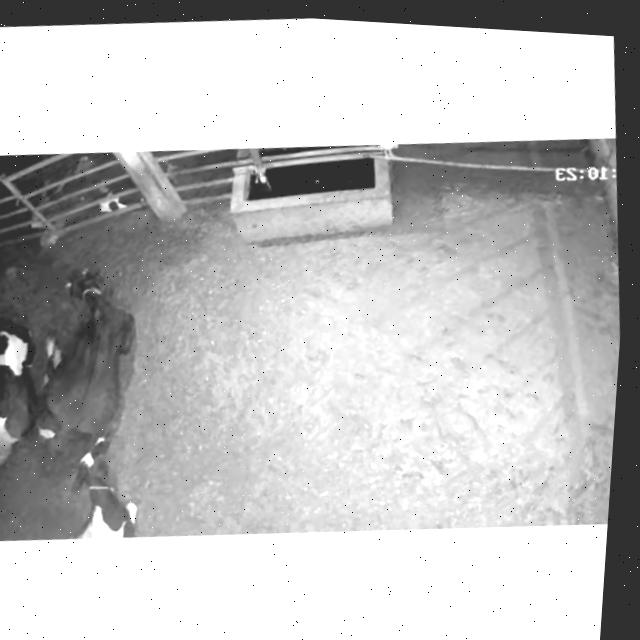lay: (12, 250, 168, 487), (35, 415, 165, 545), (0, 272, 52, 491)
